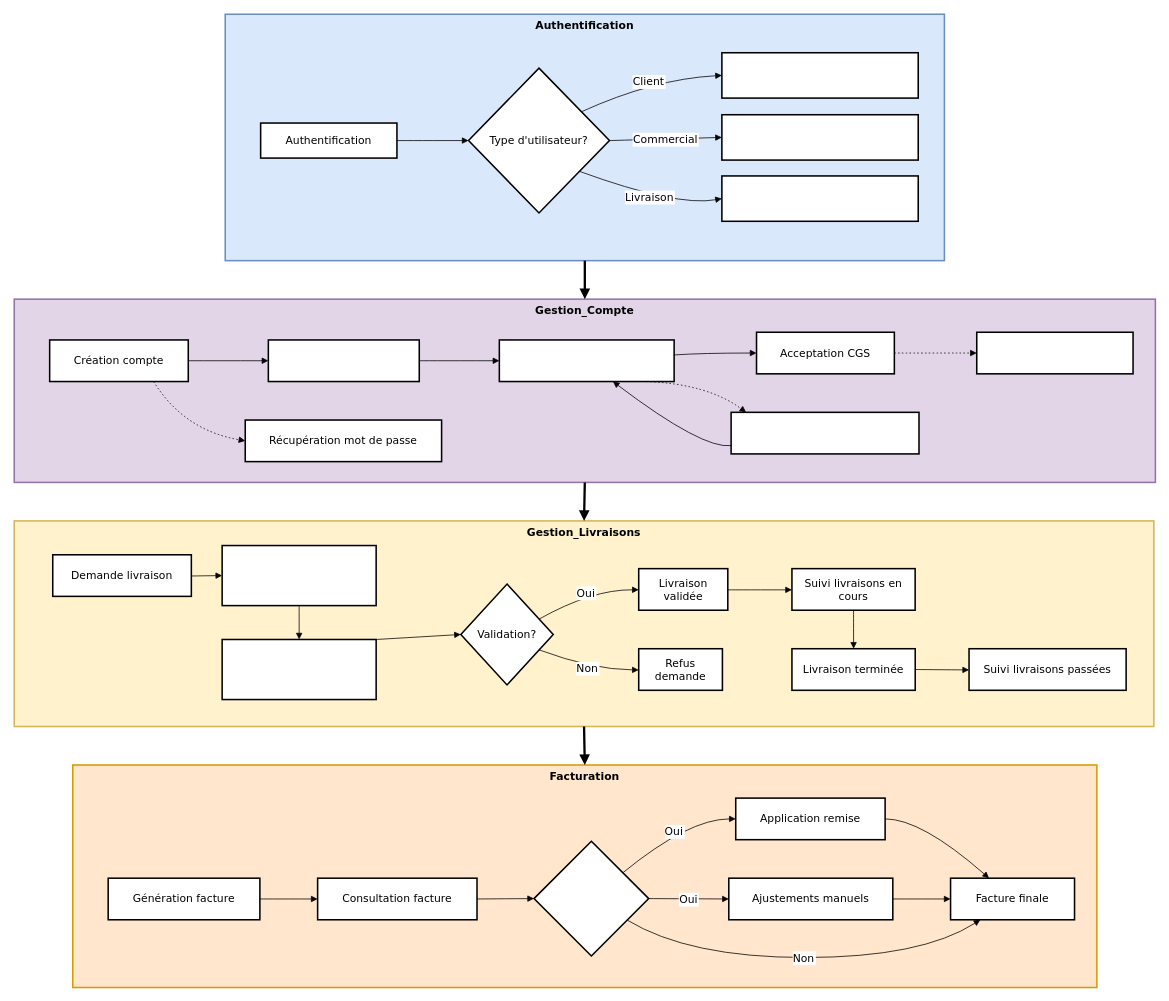
The diagram is 1169 pixels wide and 1001 high, and some of its shapes have lost their labels. The shapes that lost their labels are listed below. From the top down, each one's centre as x and y in pixels, then its label:
At point 820,75: "Authentification client".
At point 820,137: "Authentification commercial".
At point 820,198: "Authentification service livraison".
At point 343,360: "Saisie informations".
At point 586,360: "Validation informations".
At point 1054,352: "Suppression compte".
At point 824,432: "Modification informations".
At point 299,575: "Saisie informations logistiques".
At point 299,669: "Saisie informations financières".
At point 591,898: "Ajustements?".
